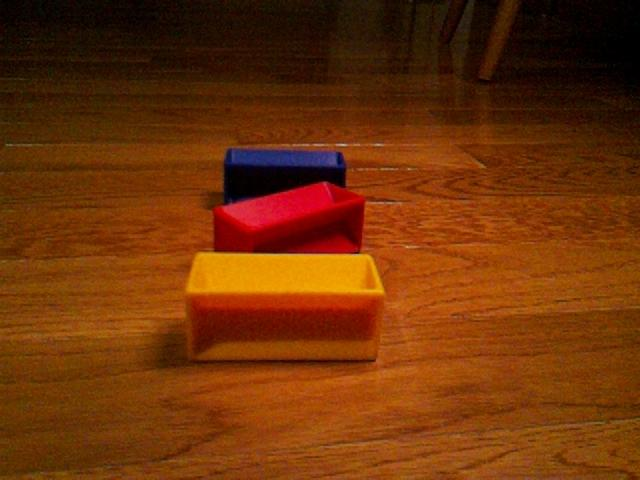blue: (222, 146, 348, 204)
red: (212, 180, 367, 254)
yellow: (184, 250, 386, 364)
